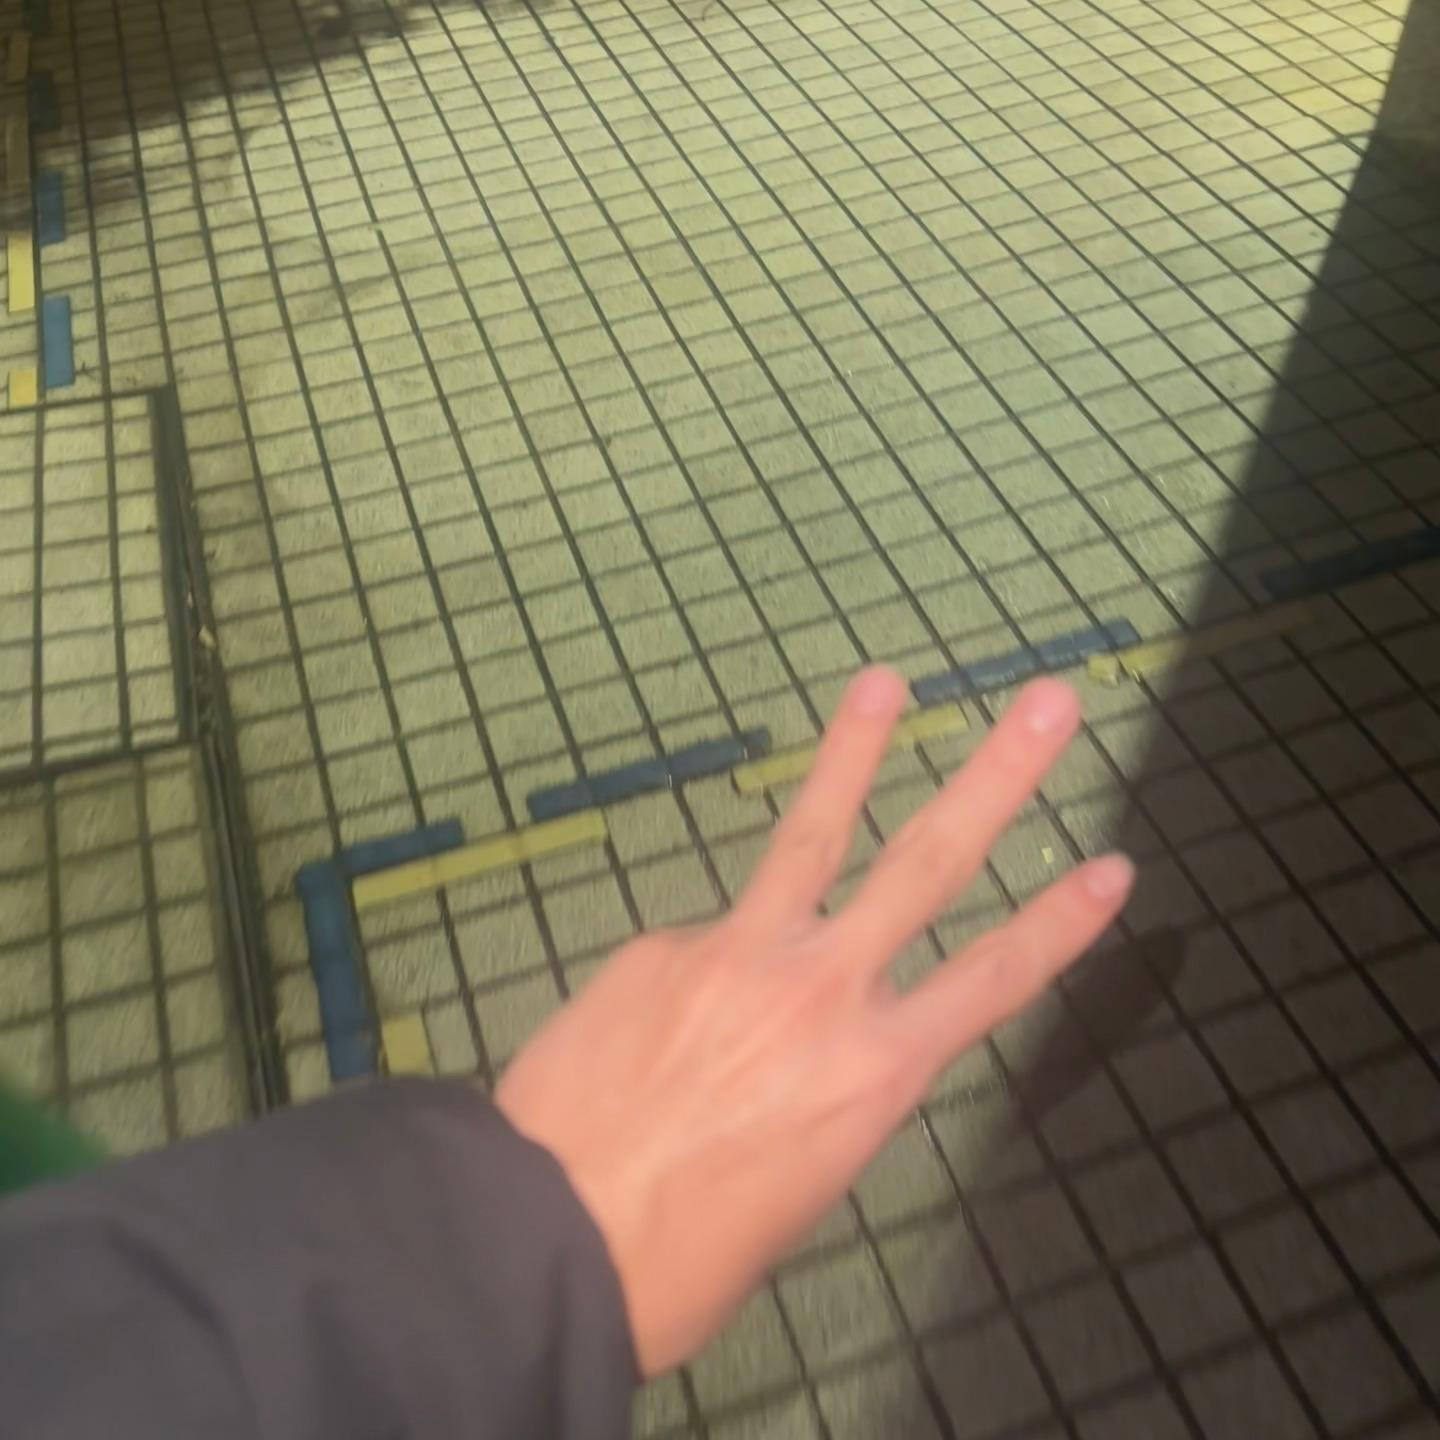without_gloves: (560, 471, 1290, 1328)
